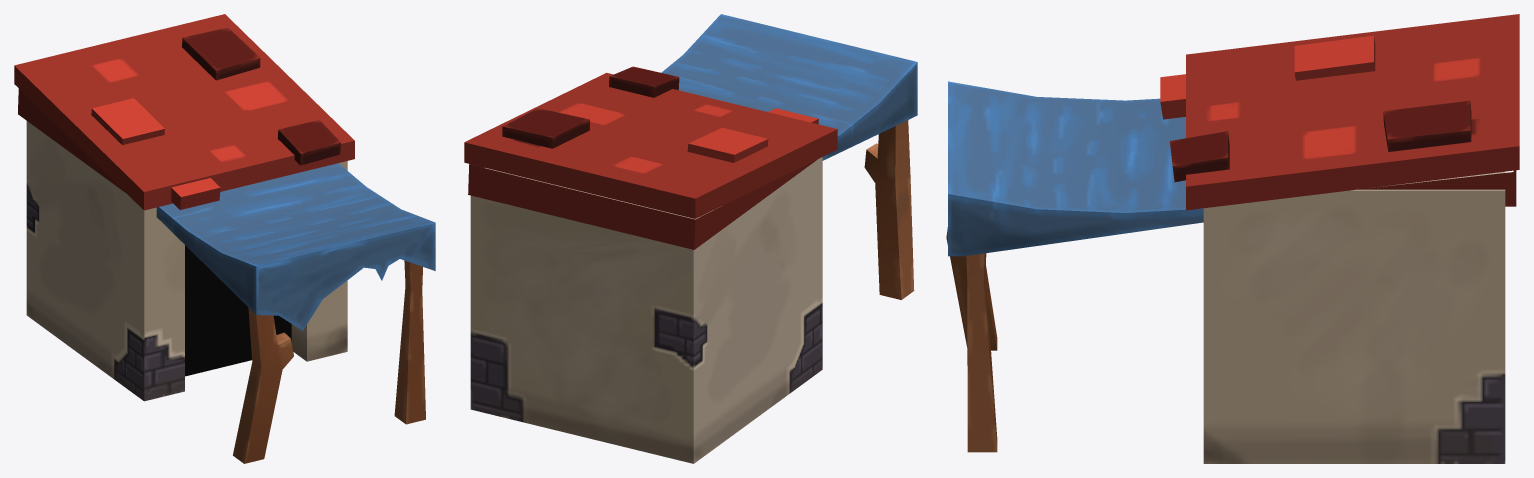
The model's file is PrimeraSlum_House_Var05.fbx.
3 renders of one model, left to right at view 1: azimuth 30°, elevation 25°; view 2: azimuth 150°, elevation 25°; view 3: azimuth 270°, elevation 25°, orthographic. The views are drawn at different scales.
Visible parts, largest first — view 1: PrimeraSlum_House_Var05; view 2: PrimeraSlum_House_Var05; view 3: PrimeraSlum_House_Var05.
Part boxes in pixels (<box>): PrimeraSlum_House_Var05: <box>14,14,435,463</box>; PrimeraSlum_House_Var05: <box>464,14,917,463</box>; PrimeraSlum_House_Var05: <box>946,14,1519,463</box>.
Bounding box in the file's own units: 541 × 621 × 992.
